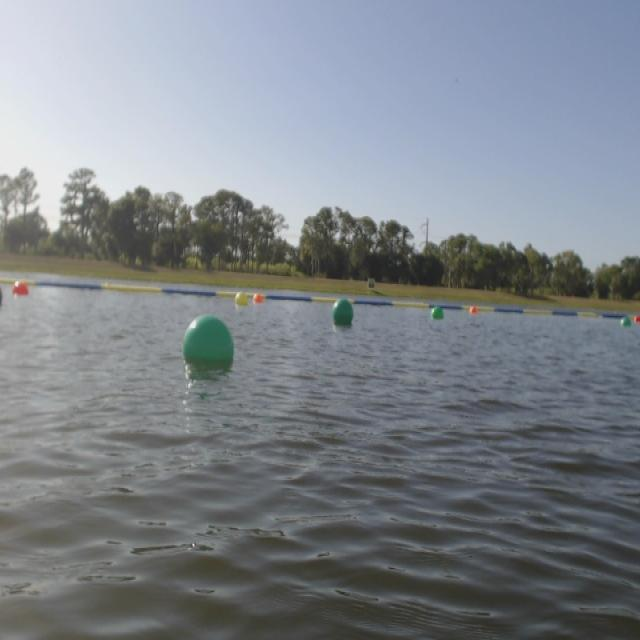Green_Buoy: (182, 317, 232, 370), (326, 295, 360, 339), (426, 305, 454, 330), (614, 316, 632, 331)
Orange__Buoy: (464, 302, 488, 317), (10, 279, 27, 296), (255, 290, 267, 312), (629, 313, 640, 328)
